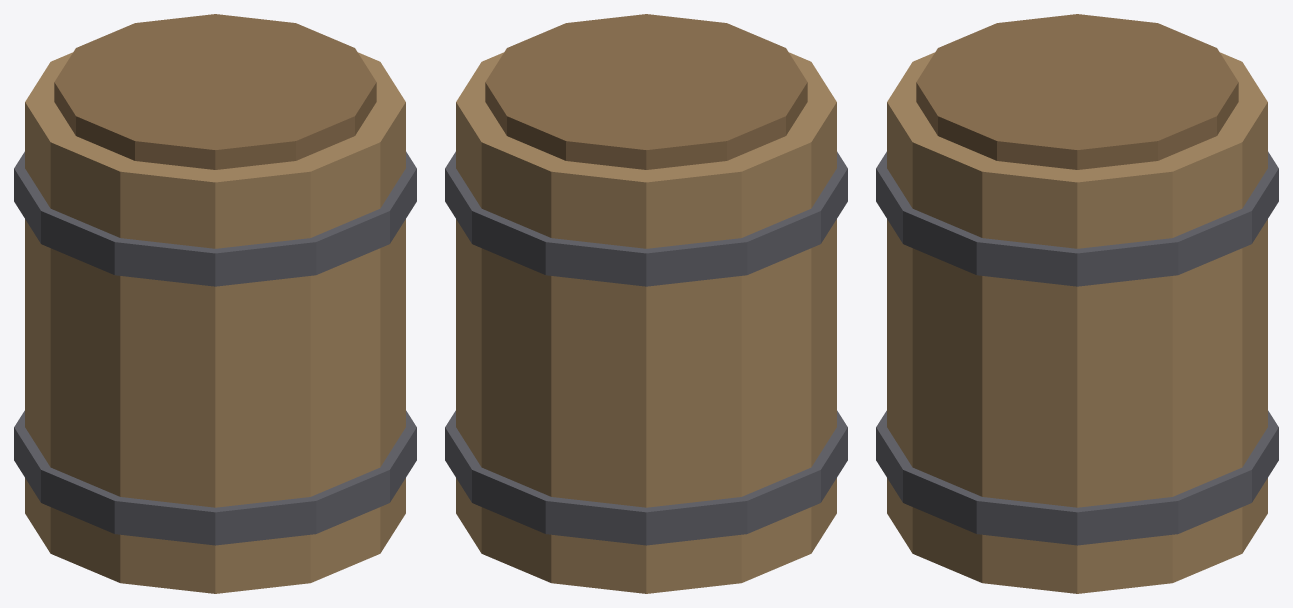
The model's file is prop_barrel.glb.
3 renders of one model, left to right at view 1: azimuth 30°, elevation 25°; view 2: azimuth 150°, elevation 25°; view 3: azimuth 270°, elevation 25°, orthographic.
Visible parts, largest first — view 1: prop_barrel; view 2: prop_barrel; view 3: prop_barrel.
Part boxes in pixels (bbox=[...]): prop_barrel: bbox=[14, 14, 416, 593]; prop_barrel: bbox=[445, 14, 847, 593]; prop_barrel: bbox=[876, 14, 1278, 593].
Bounding box in the file's own units: 0.55 × 0.65 × 0.55.
